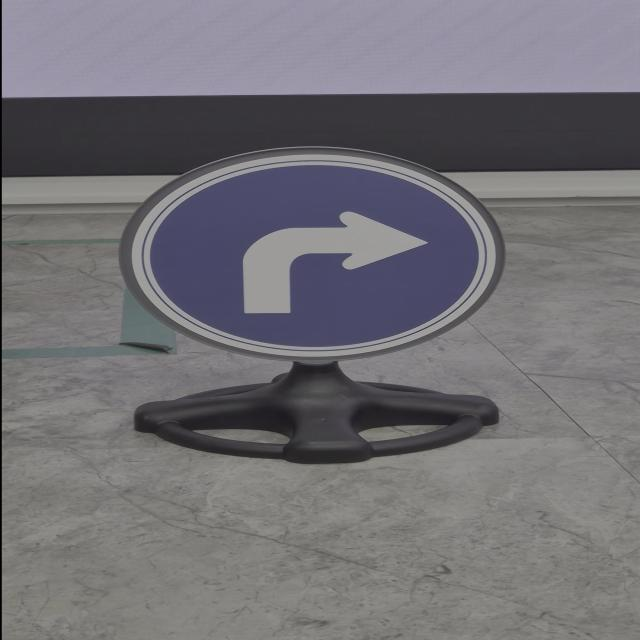right_dierection: (105, 143, 516, 363)
